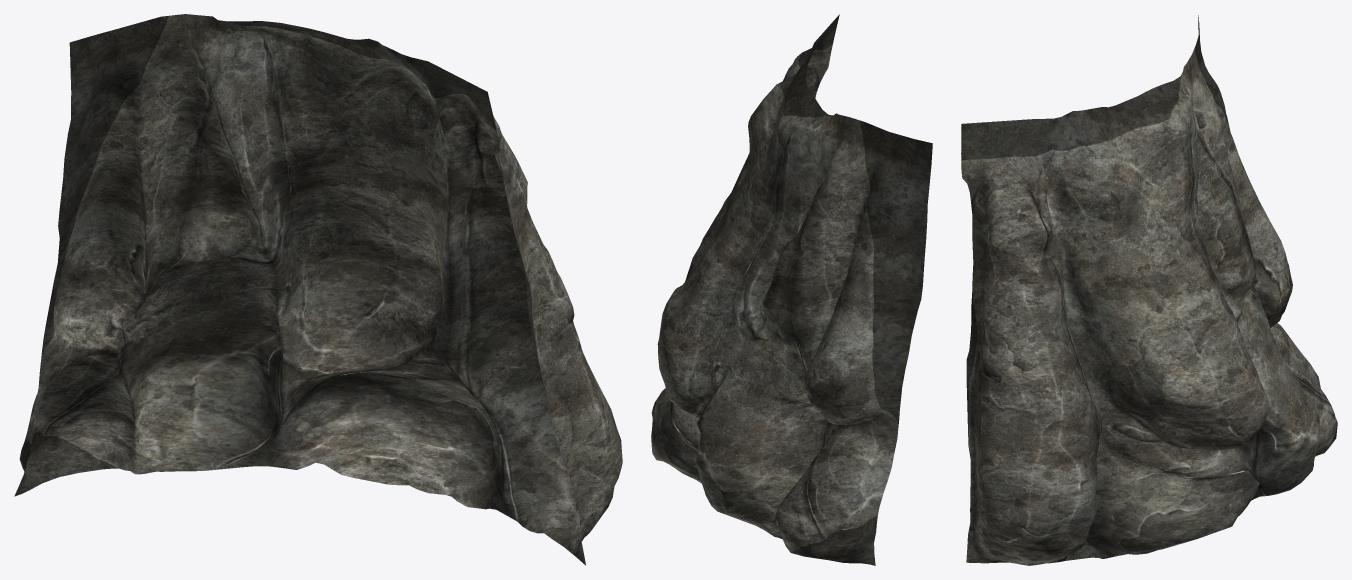
The model's file is cave_ravine_wall_03_convex.dae.
The picture shows the model from 3 angles, left to right: view 1: azimuth 30°, elevation 25°; view 2: azimuth 150°, elevation 25°; view 3: azimuth 270°, elevation 25°; orthographic projection. The views are drawn at different scales.
Visible parts, largest first — view 1: wall_3_convex; view 2: wall_3_convex; view 3: wall_3_convex.
Boxes of the visible parts, <box> form: wall_3_convex: <box>14,14,622,565</box>; wall_3_convex: <box>651,14,932,565</box>; wall_3_convex: <box>961,15,1337,565</box>.
Size of what is drawn, in the model's own units: 3.95 by 4.39 by 3.64.
